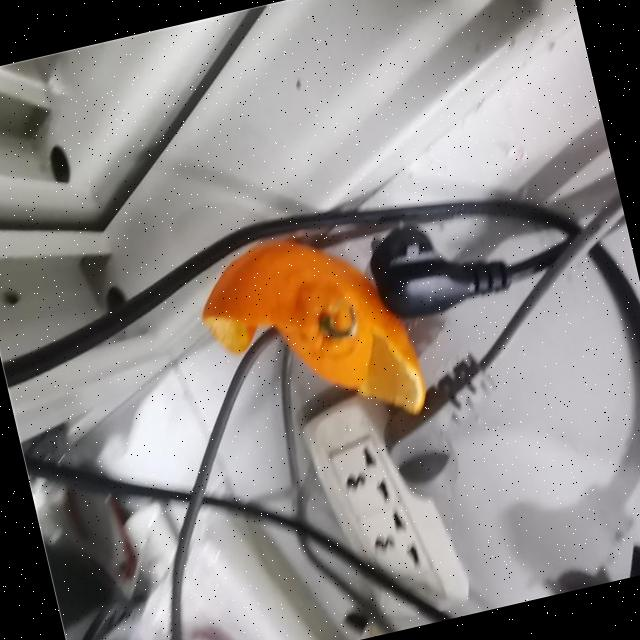orange-peel: (185, 210, 432, 458)
